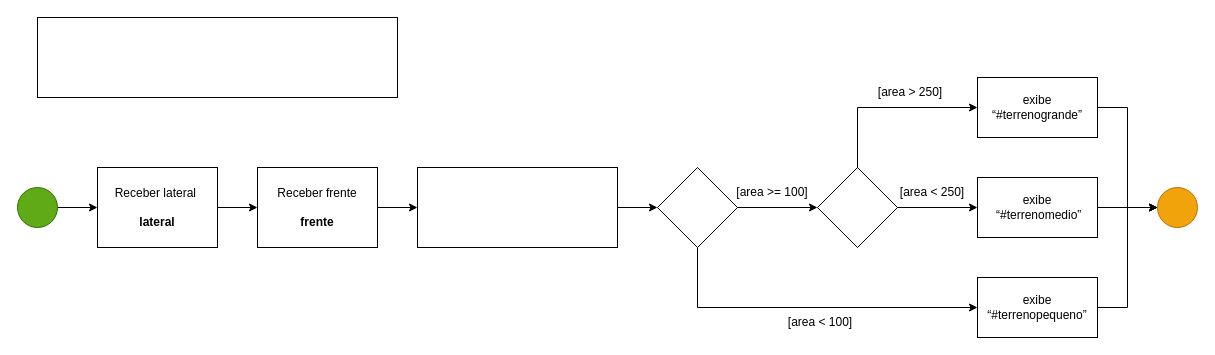
Image size: 1215x355. Some labels were removed from this diagram. Each missing label, with the centre of its shape:
Atividade 6: pixel 217 57
Calcular área area = lateral * frente area: pixel 517 207
